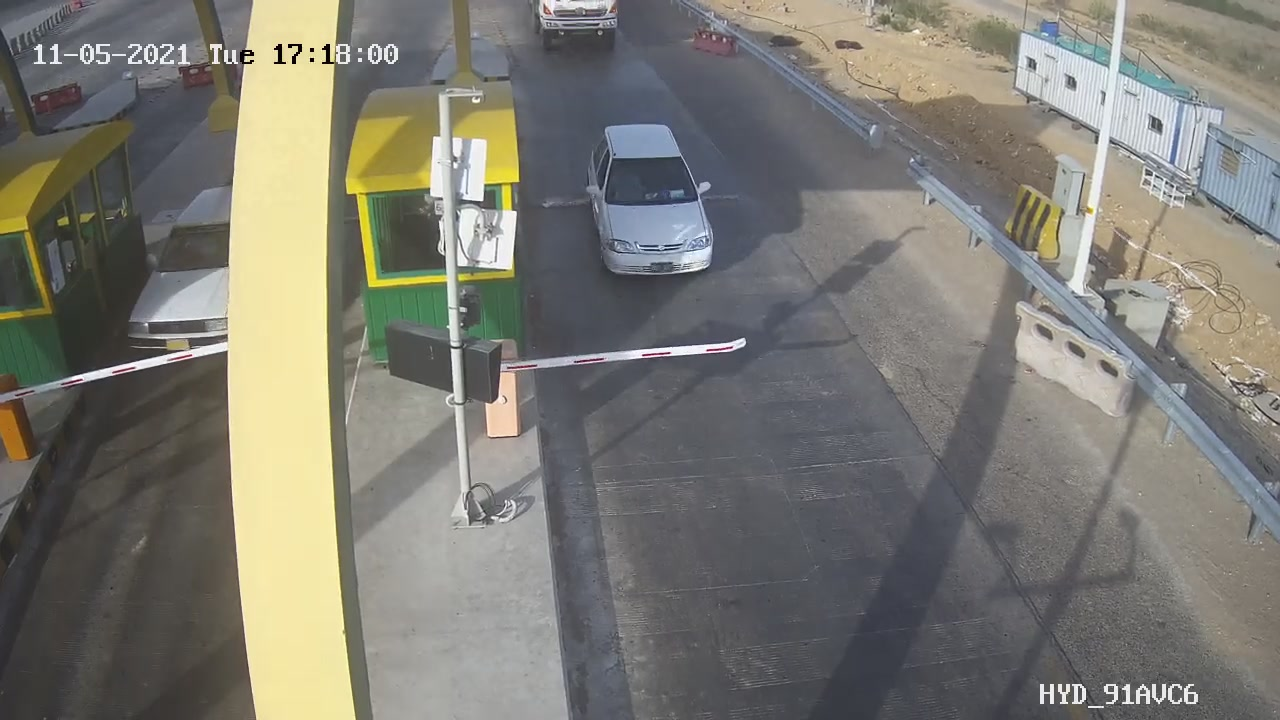F1: (570, 113, 738, 298)
